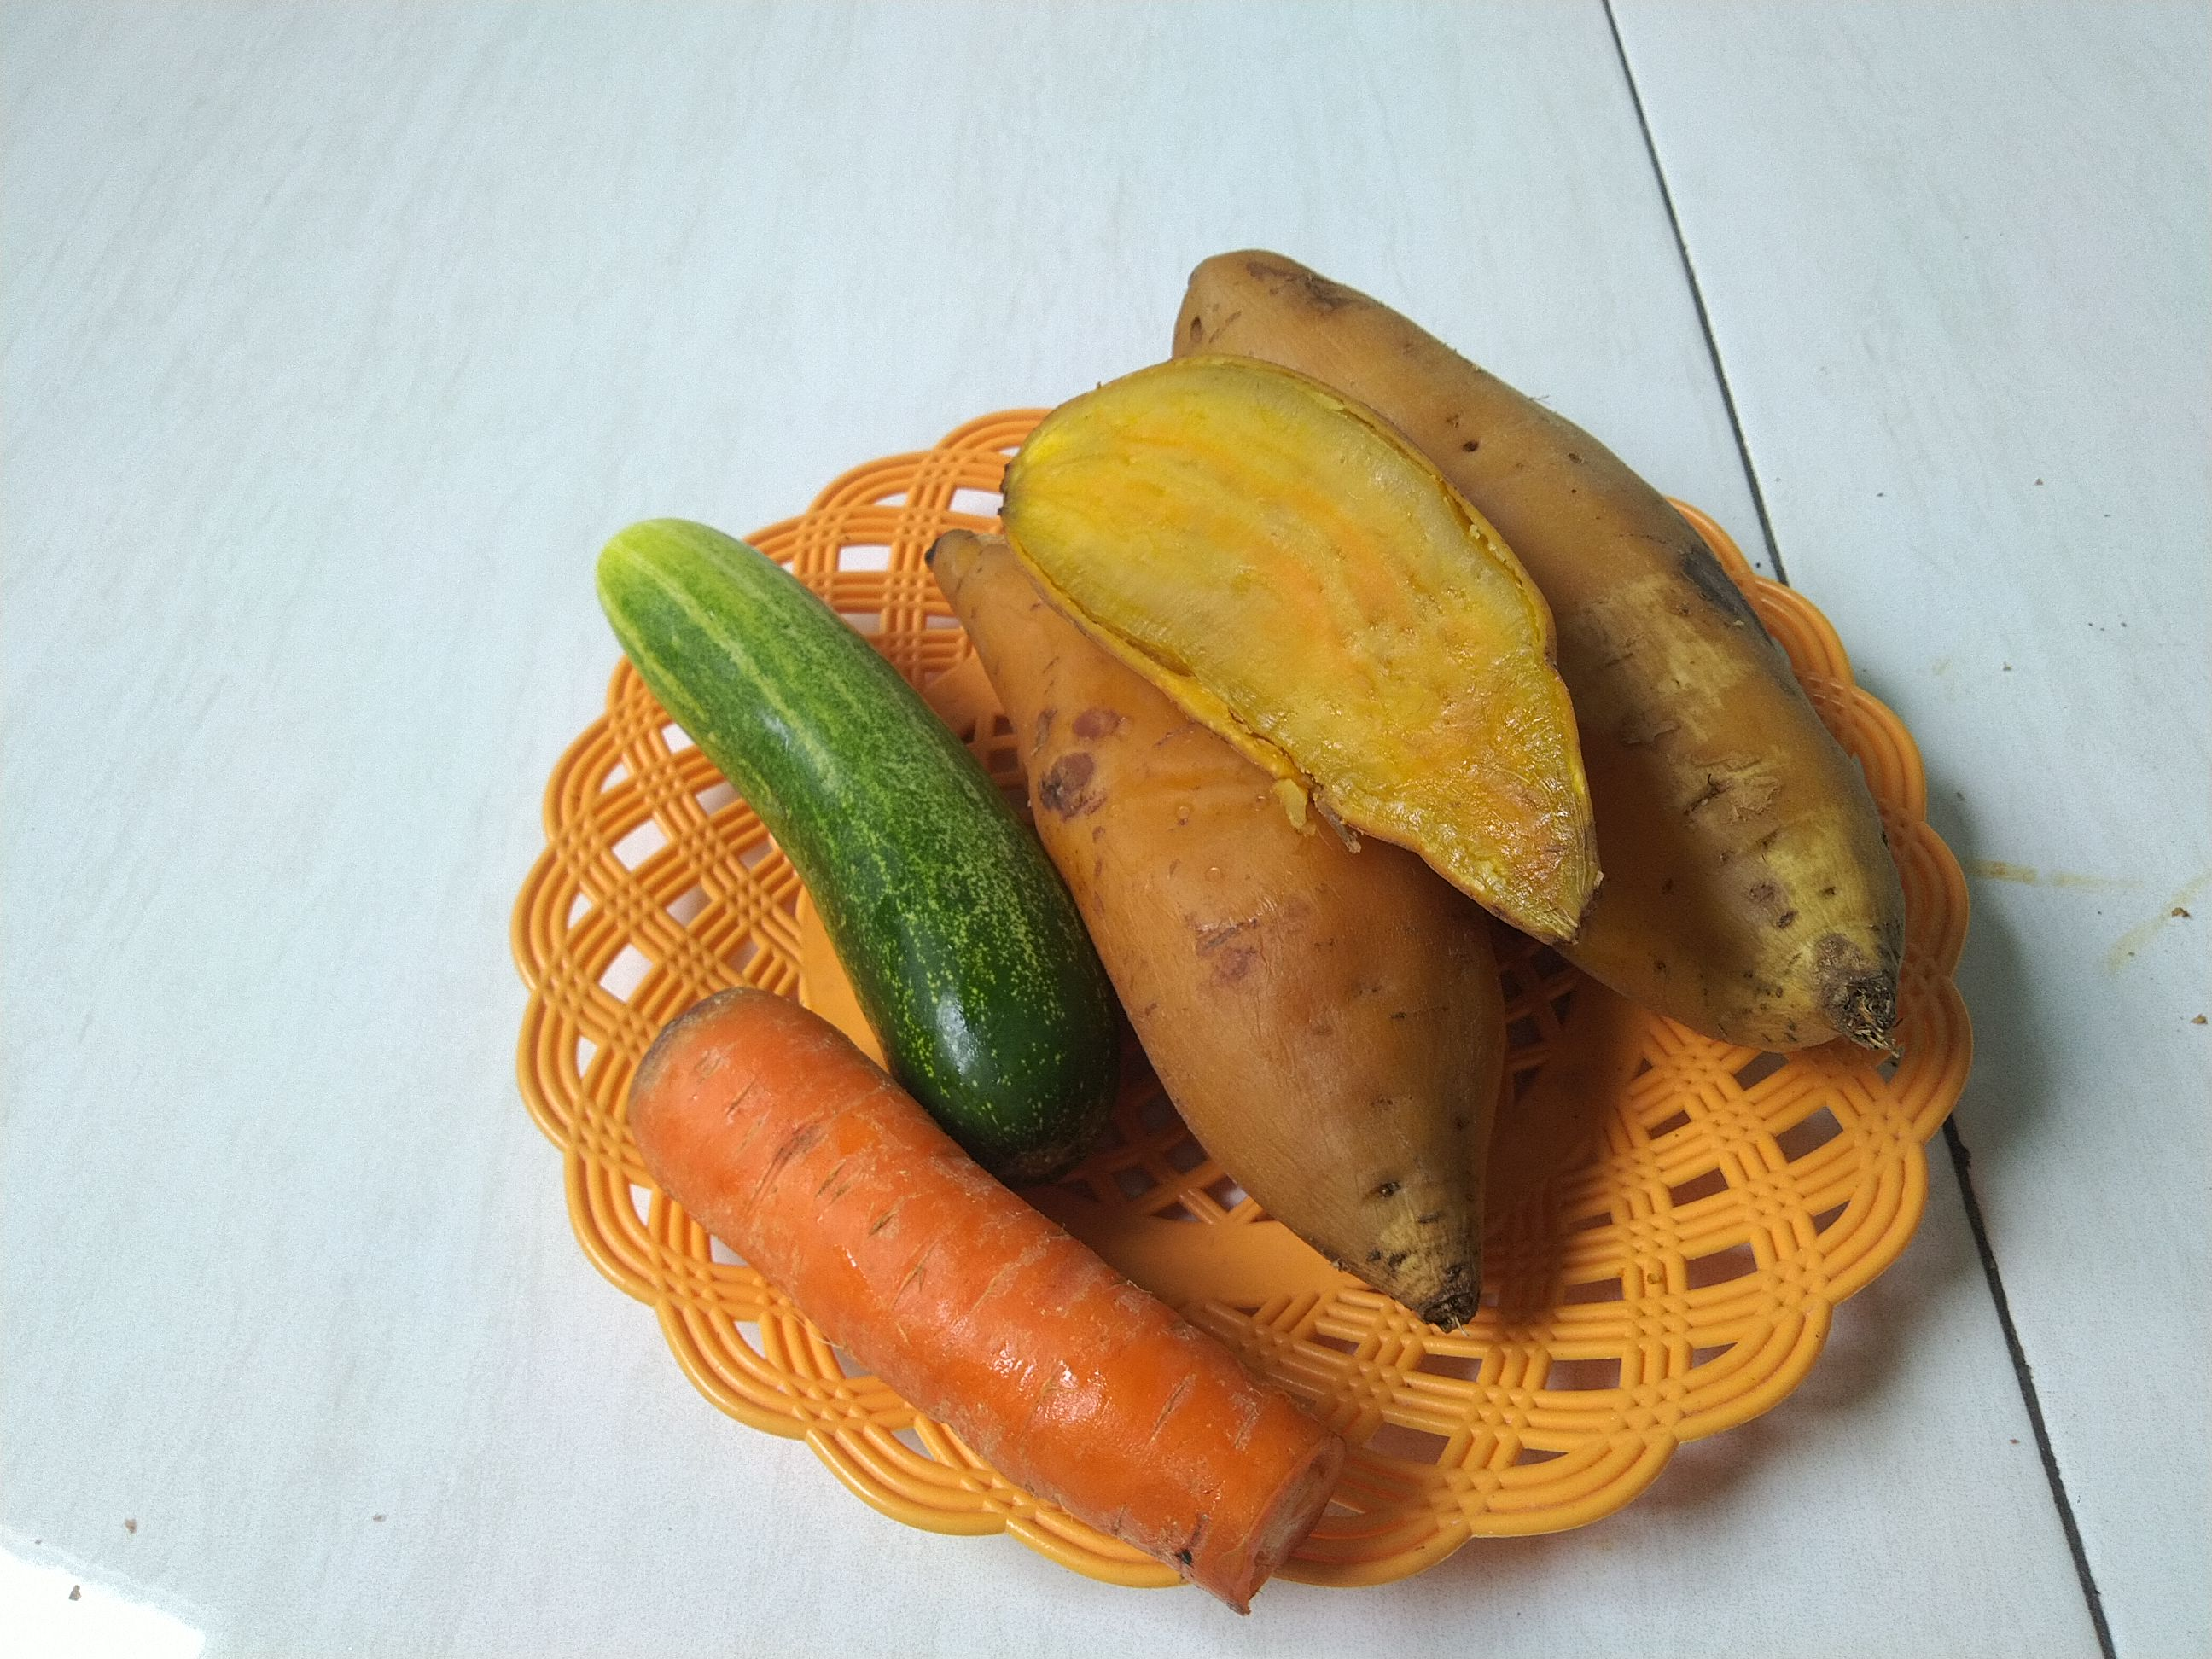ubi cilembu: (1177, 232, 1916, 1087), (932, 523, 1548, 1330), (1001, 359, 1615, 965)
